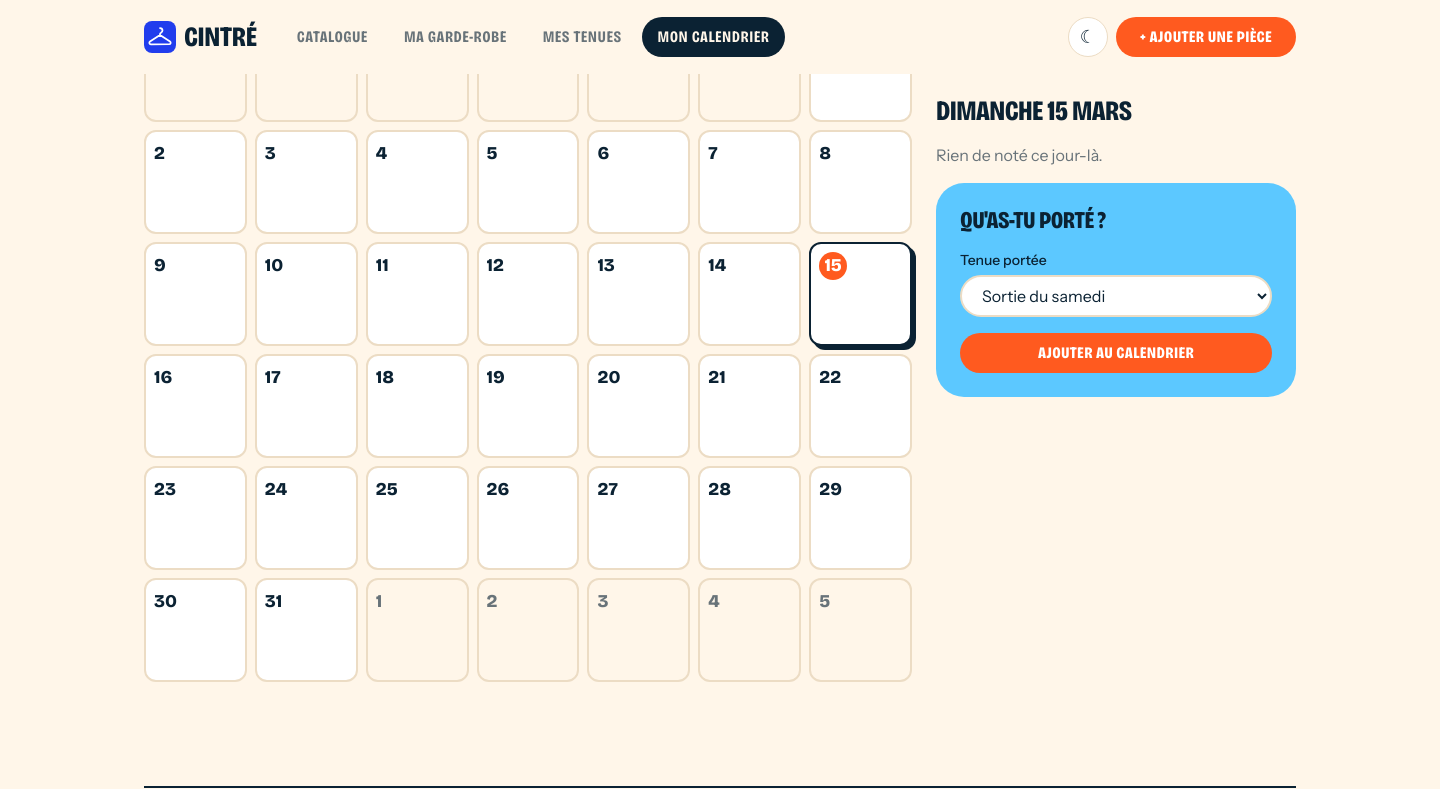
Test case: Calendrier : navigation › sélectionne un autre jour
The width and height of the screenshot is (1440, 789).
(page scrolled)
Click the button "20": coordinates (639, 406) [587,354,690,458]
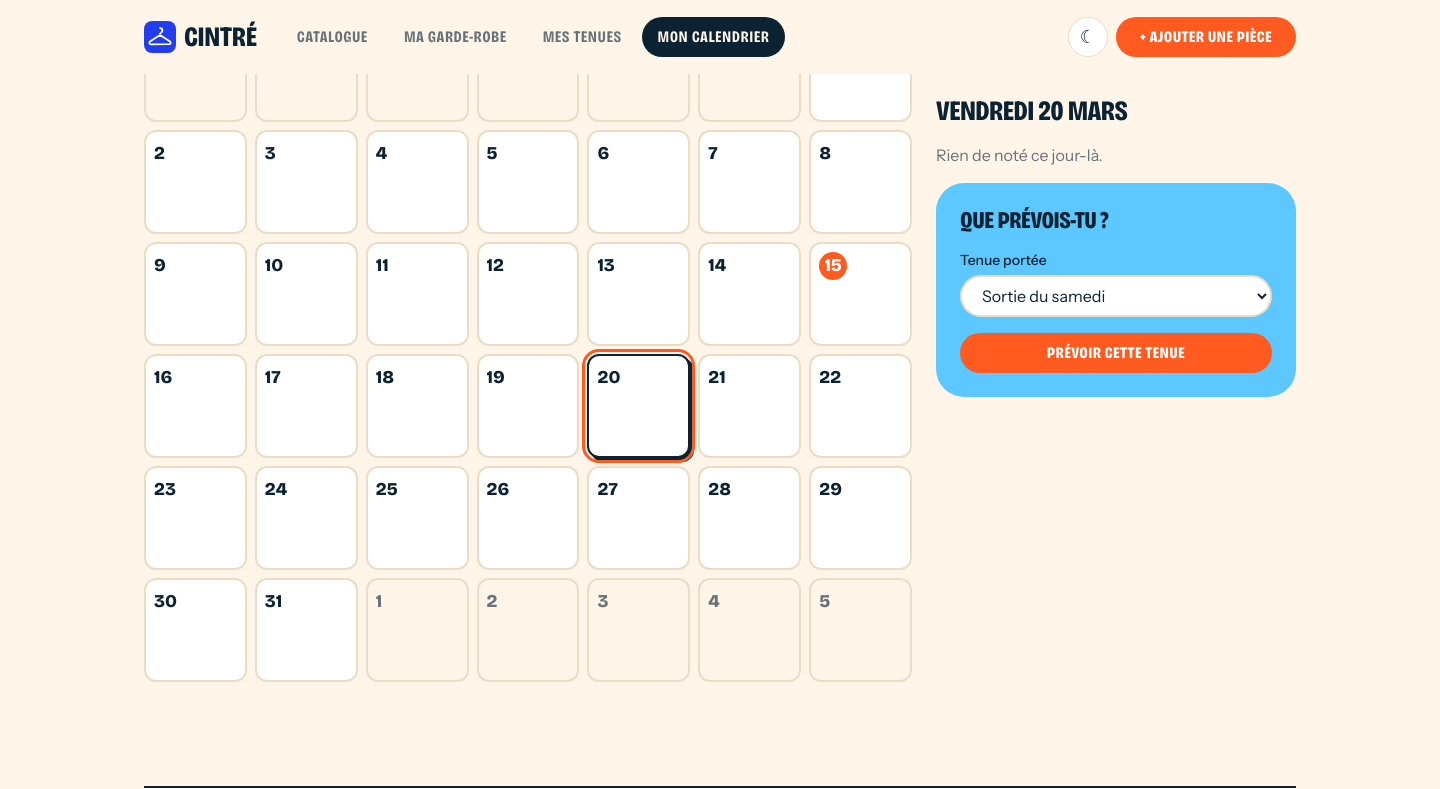
Check: the heading "vendredi 20 mars" is shown, box [936,94,1127,128]
